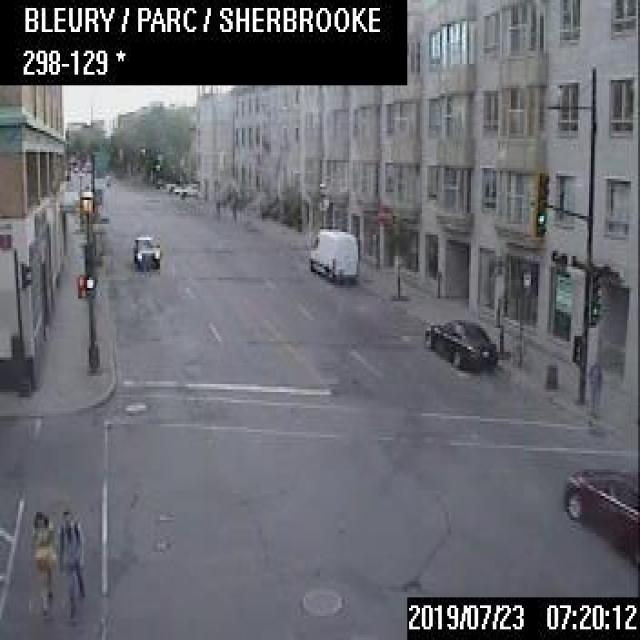pedestrian: (56, 503, 84, 617), (29, 507, 55, 614)
vehicle: (562, 466, 638, 571), (420, 317, 496, 371), (307, 224, 358, 283), (129, 232, 160, 270)
